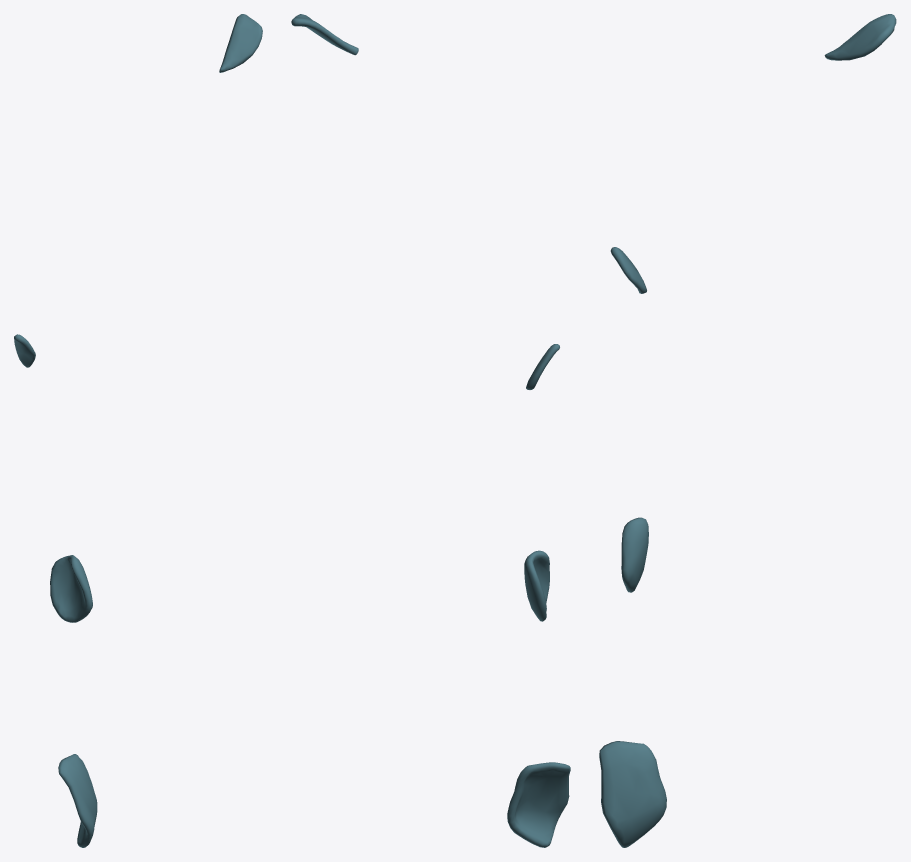
Rendered from Levator_scapulae-_Insertion.l_Generated_Mesh_From_X3D.961.glb.
3 views of the same model, side by side, from view 1: azimuth 30°, elevation 25°; view 2: azimuth 150°, elevation 25°; view 3: azimuth 330°, elevation 25° (orthographic). The views are drawn at different scales.
Parts seen in each view (by area): view 1: Levator_scapulae-_Insertion.l_Generated_Mesh_From_X3D.961; view 2: Levator_scapulae-_Insertion.l_Generated_Mesh_From_X3D.961; view 3: Levator_scapulae-_Insertion.l_Generated_Mesh_From_X3D.961.
Part boxes in pixels (box(x1,y1,x2,y2)): Levator_scapulae-_Insertion.l_Generated_Mesh_From_X3D.961: box(14, 14, 262, 847); Levator_scapulae-_Insertion.l_Generated_Mesh_From_X3D.961: box(291, 14, 570, 847); Levator_scapulae-_Insertion.l_Generated_Mesh_From_X3D.961: box(599, 14, 896, 847).
Bounding box in the file's own units: 0.0169 × 0.0497 × 0.00589.
